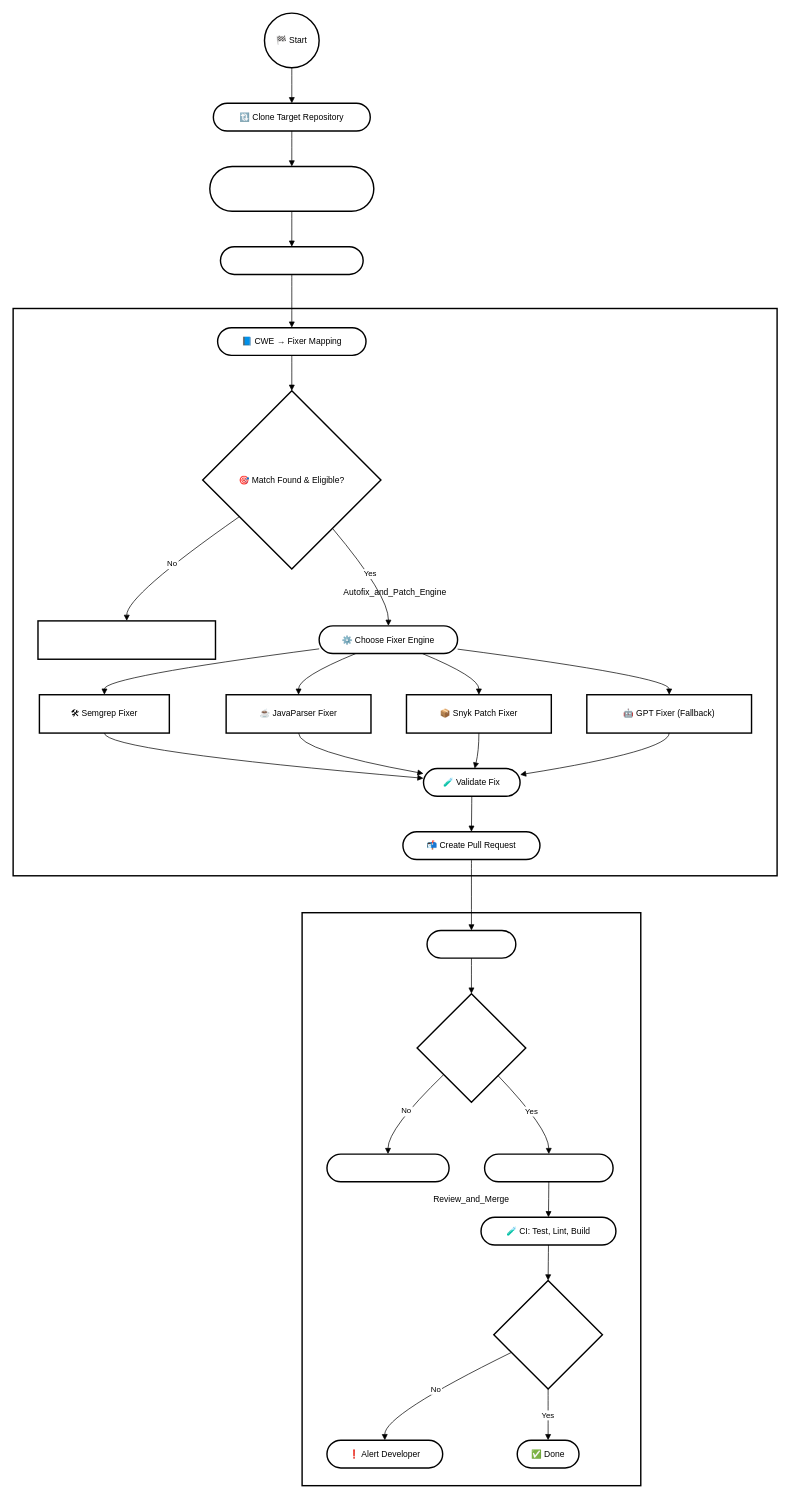
The diagram is 790 pixels wide and 1498 high, and some of its shapes have lost their labels. Each missing label, with the centre of its shape:
"✅ Approved?" belongs at point (471, 1048).
"✅ CI Passed?" belongs at point (548, 1334).
"📄 Load Vulnerability Report" belongs at point (291, 188).
"📋 Log + Notify Developer" belongs at point (126, 640).
"🔁 PR Review" belongs at point (471, 943).
"🚀 Merge + Trigger CI" belongs at point (548, 1167).
"🛑 Request Changes" belongs at point (387, 1167).
"🧠 CVE-to-Rule Mapping" belongs at point (291, 260).
